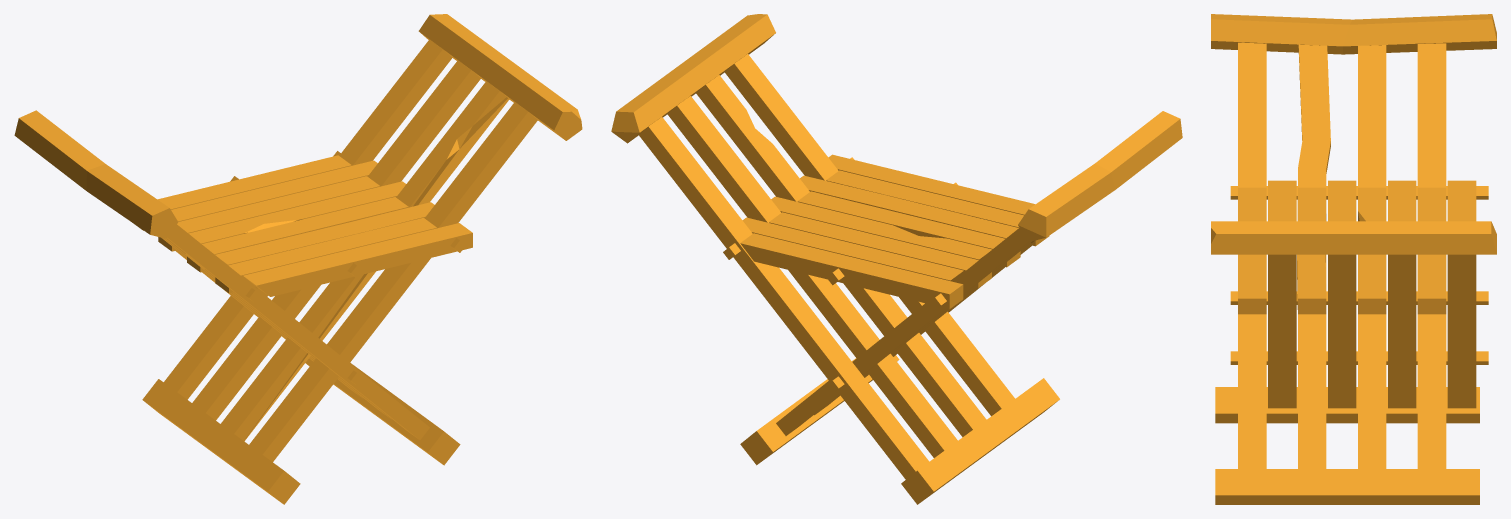
The model's file is SM_Chair_Folding_A_Fantasy.fbx.
3 renders of one model, left to right at view 1: azimuth 30°, elevation 25°; view 2: azimuth 150°, elevation 25°; view 3: azimuth 270°, elevation 25°, orthographic. The views are drawn at different scales.
Parts seen in each view (by area): view 1: chair-folding-a-fantasy; view 2: chair-folding-a-fantasy; view 3: chair-folding-a-fantasy.
Part boxes in pixels (x1=…): chair-folding-a-fantasy: x1=14, y1=14, x2=582, y2=504; chair-folding-a-fantasy: x1=611, y1=14, x2=1182, y2=504; chair-folding-a-fantasy: x1=1211, y1=14, x2=1496, y2=504.
Size of the model in its own units: 1.05 by 0.7597 by 0.5717.
